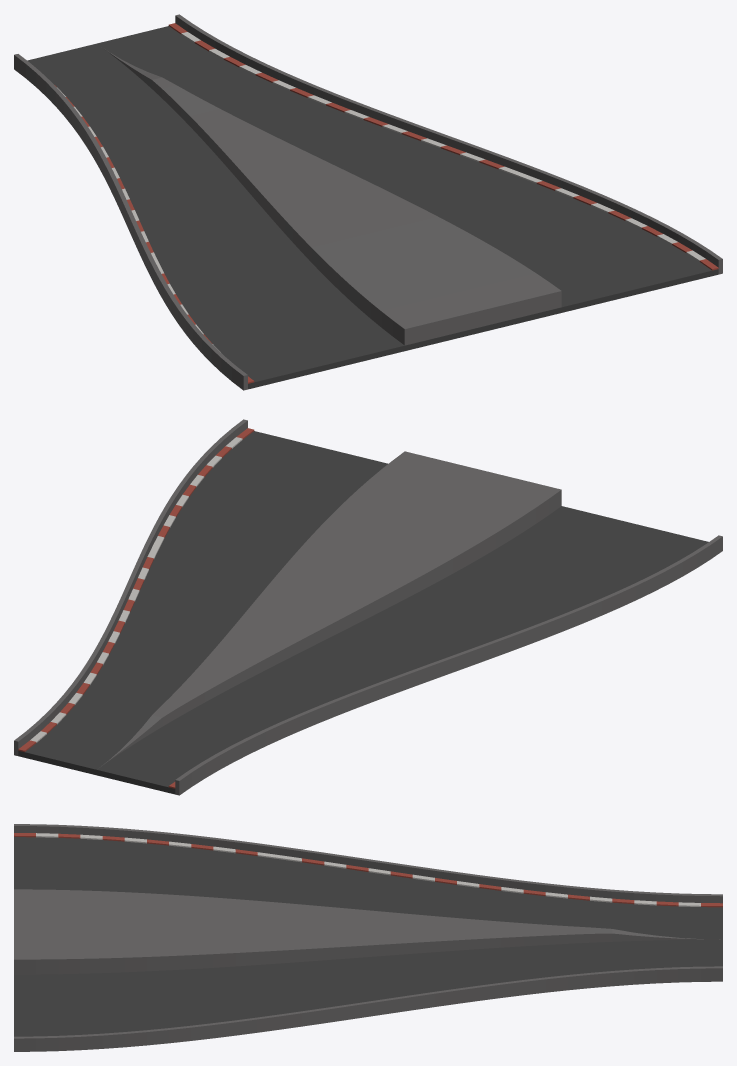
The model's file is tp-highway-entry.glb.
The picture shows the model from 3 angles, top to bottom: view 1: azimuth 30°, elevation 25°; view 2: azimuth 150°, elevation 25°; view 3: azimuth 270°, elevation 25°; orthographic projection. The views are drawn at different scales.
Visible parts, largest first — view 1: tp-highway-entry; view 2: tp-highway-entry; view 3: tp-highway-entry.
Boxes of the visible parts, x1,y1,x2,y2 form: tp-highway-entry: (14, 14, 722, 390); tp-highway-entry: (14, 419, 722, 795); tp-highway-entry: (14, 824, 722, 1051).
Size of what is drawn, in the model's own units: 44.7 by 1.96 by 62.42.
1 material, 1 textured.
